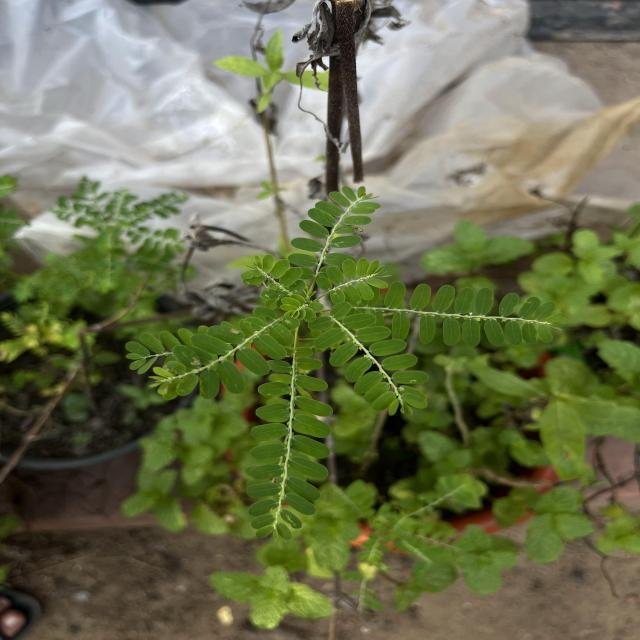Phyllanthus niruri: (242, 343, 330, 544), (342, 279, 569, 350), (300, 299, 432, 416), (146, 310, 298, 402), (290, 182, 380, 284), (240, 254, 306, 307)
